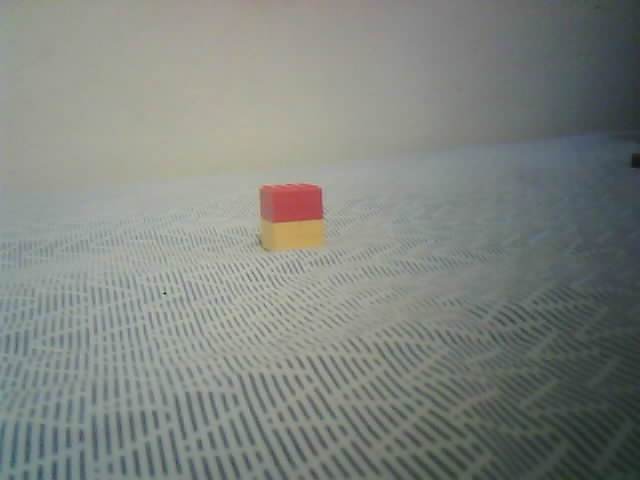lego: (258, 182, 325, 252)
